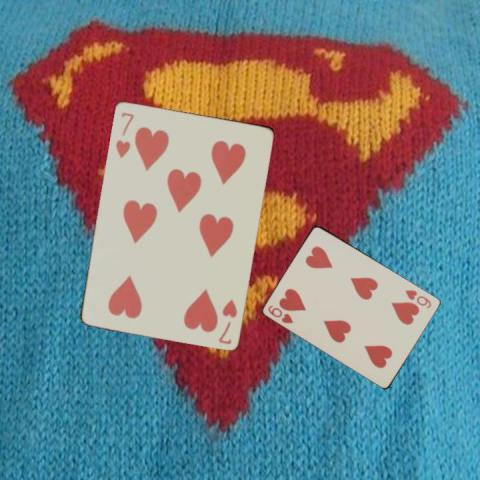6h: (402, 287, 433, 310), (265, 302, 295, 325)
7h: (112, 109, 135, 159), (215, 296, 238, 346)
